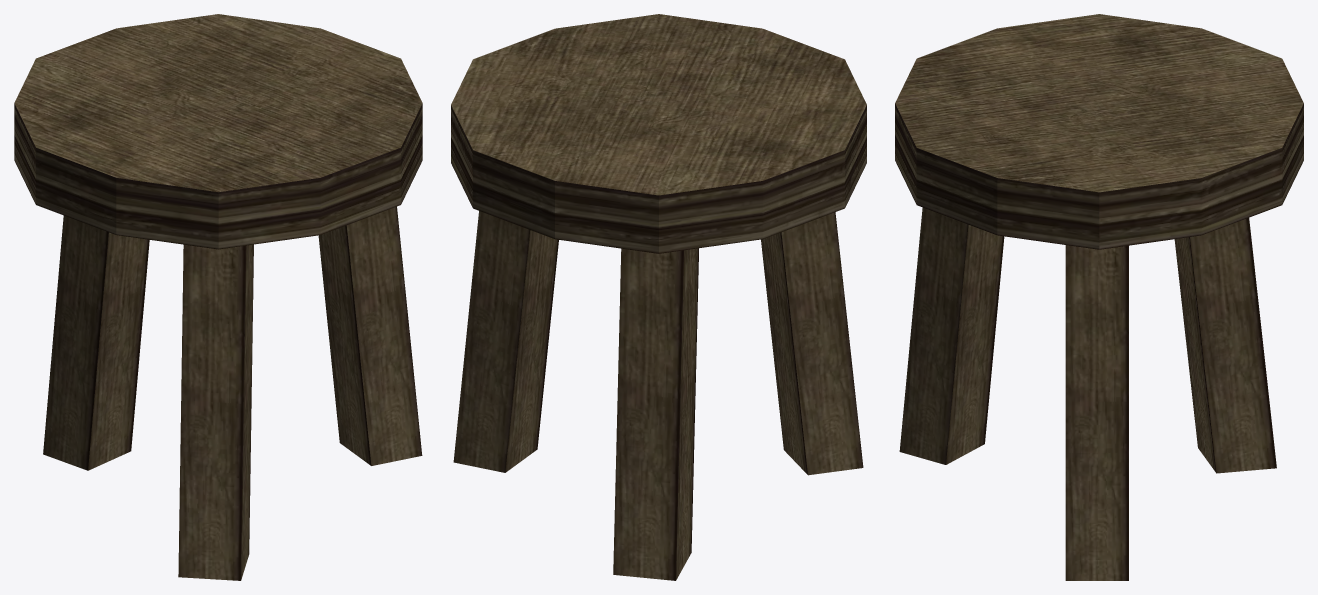
The model's file is CHAIR_BROWN_01_KOZA.glb.
3 renders of one model, left to right at view 1: azimuth 30°, elevation 25°; view 2: azimuth 150°, elevation 25°; view 3: azimuth 270°, elevation 25°, orthographic.
Visible parts, largest first — view 1: CHAIR_BROWN_01_KOZA; view 2: CHAIR_BROWN_01_KOZA; view 3: CHAIR_BROWN_01_KOZA.
Boxes of the visible parts, x1,y1,x2,y2 form: CHAIR_BROWN_01_KOZA: (14,14,422,580); CHAIR_BROWN_01_KOZA: (451,14,866,580); CHAIR_BROWN_01_KOZA: (895,14,1303,580).
Bounding box in the file's own units: 0.5059 × 0.505 × 0.4842.
Materials: 2 (2 with a texture image).
